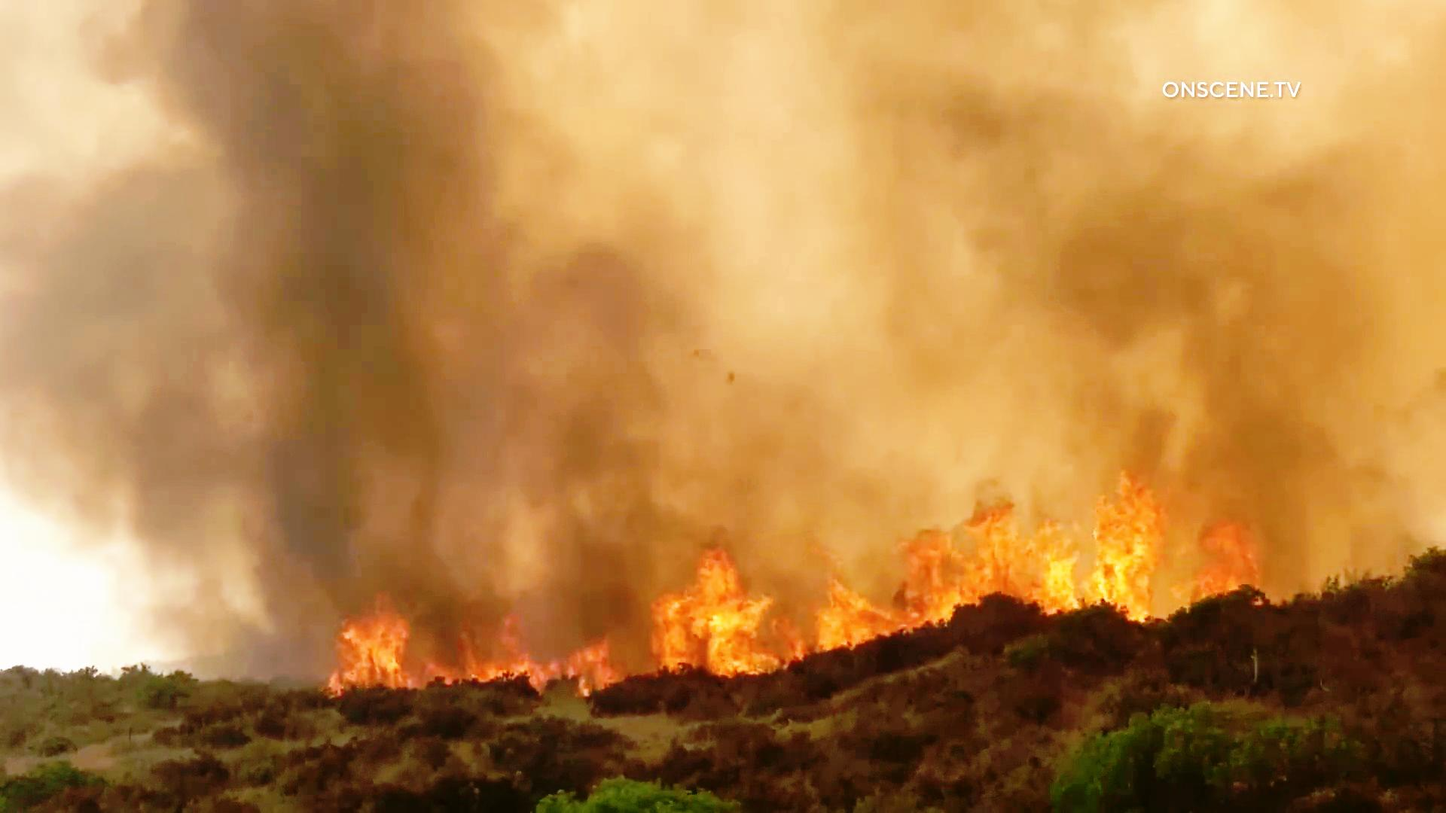fire: (160, 17, 502, 556), (892, 480, 1168, 621), (633, 537, 763, 690), (787, 548, 885, 661), (339, 582, 406, 697)
